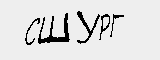Б: (115, 5, 143, 21)
С: (50, 12, 68, 32)
Т: (89, 4, 112, 21)
Э: (27, 19, 40, 38)
Я: (63, 8, 85, 27)
Ү: (40, 17, 53, 37)
